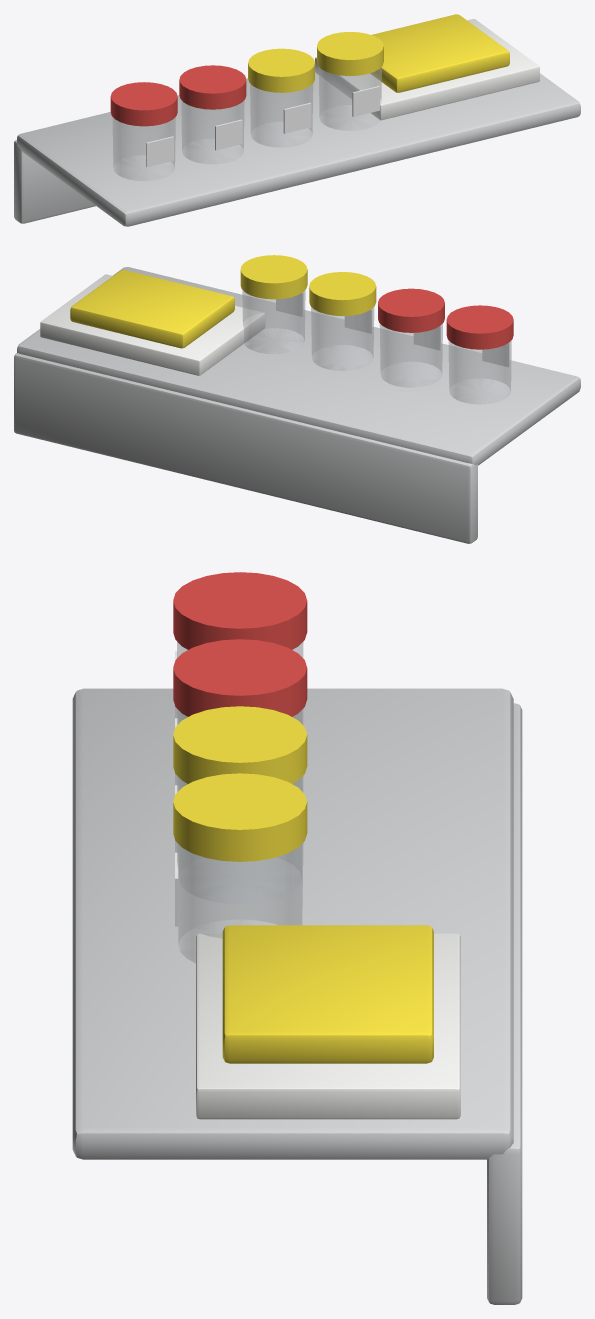
File: SpecimenStation.fbx
3 renders of one model, top to bottom at view 1: azimuth 30°, elevation 25°; view 2: azimuth 150°, elevation 25°; view 3: azimuth 270°, elevation 25°, orthographic. The views are drawn at different scales.
Visible parts, largest first — view 1: SpecimenStation_Mesh; view 2: SpecimenStation_Mesh; view 3: SpecimenStation_Mesh.
Boxes of the visible parts, left/top/right/bottom form: SpecimenStation_Mesh: left=14, top=14, right=580, bottom=226; SpecimenStation_Mesh: left=14, top=255, right=580, bottom=543; SpecimenStation_Mesh: left=72, top=572, right=522, bottom=1304.
Bounding box in the file's own units: 0.6 × 0.2 × 0.255.
